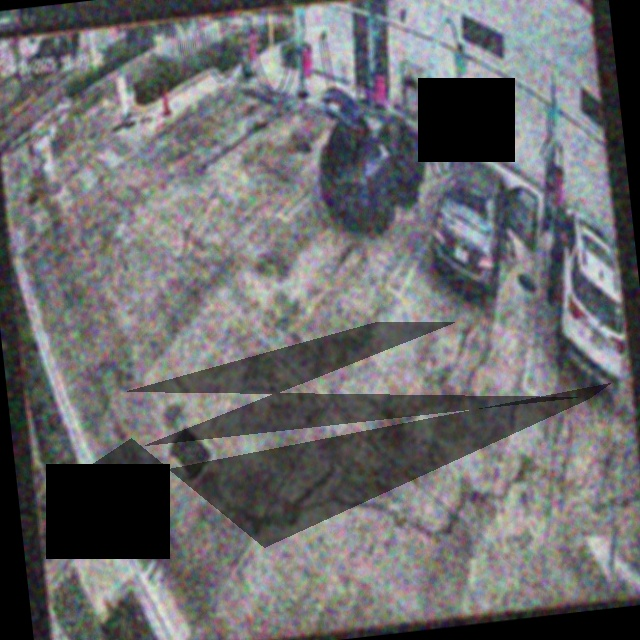Car: (423, 141, 544, 304), (311, 81, 435, 235)
